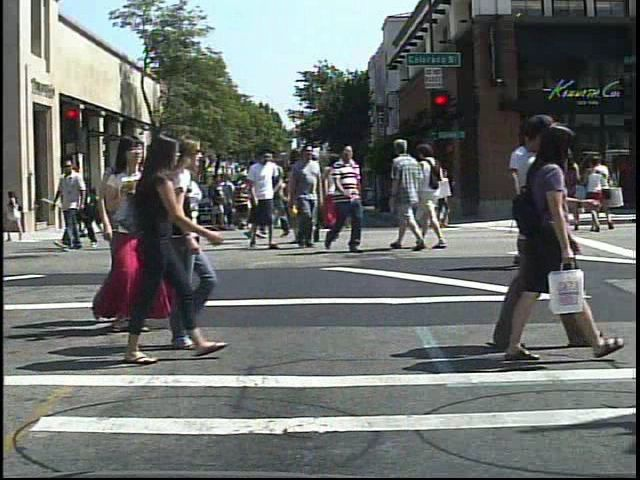person: (485, 107, 605, 357), (497, 115, 612, 361), (118, 130, 191, 370), (102, 131, 181, 338), (168, 135, 243, 353), (100, 130, 146, 336), (495, 124, 553, 270), (322, 141, 371, 257), (290, 142, 330, 250), (390, 134, 425, 255), (287, 141, 325, 251), (165, 153, 206, 254), (247, 144, 281, 256), (422, 136, 454, 250), (326, 147, 359, 248), (129, 158, 165, 244), (535, 154, 563, 238), (230, 167, 253, 236), (63, 183, 83, 233)
